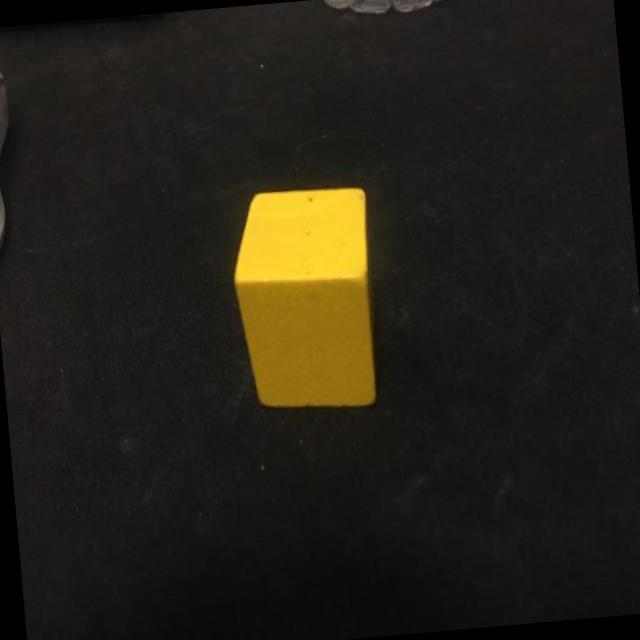yellow: (234, 188, 375, 402)
